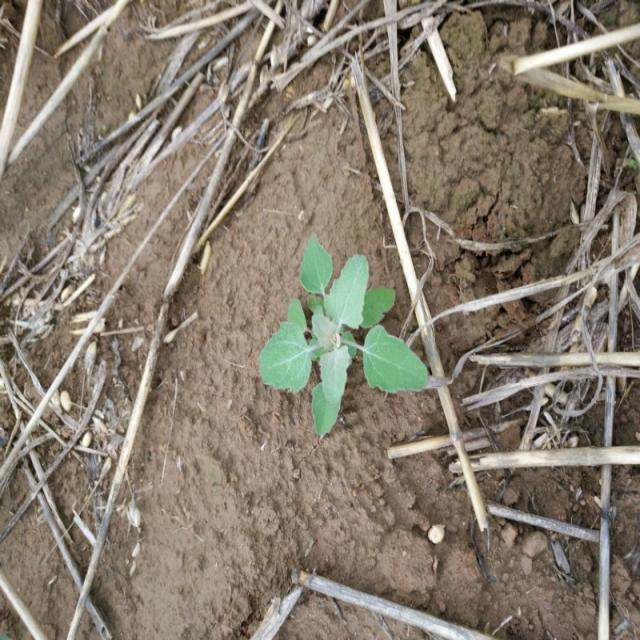goosefoots: (236, 222, 442, 427)
